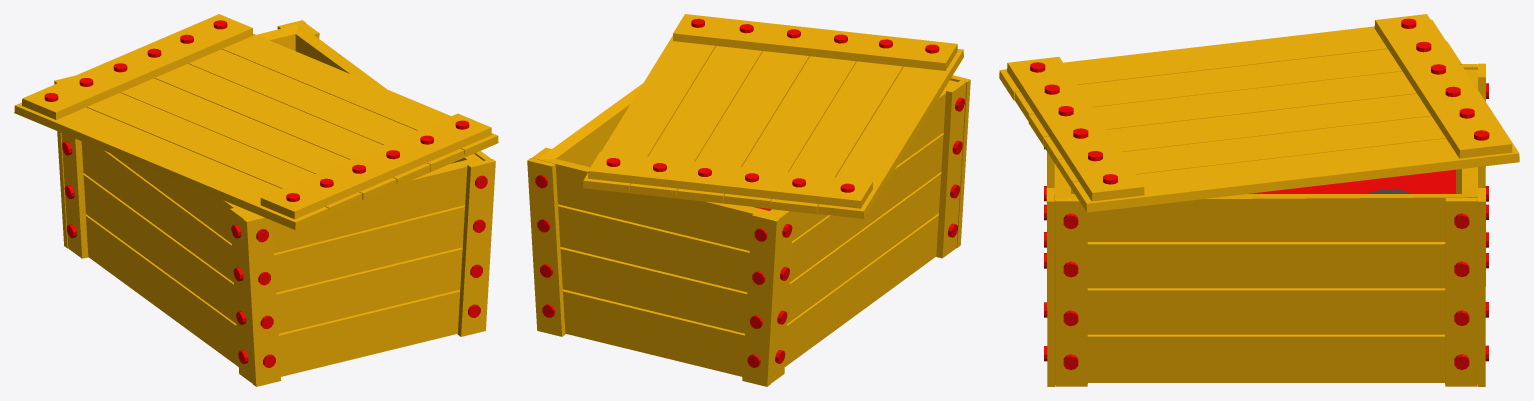
The model's file is MoneyChest.fbx.
3 views of the same model, side by side, from view 1: azimuth 30°, elevation 25°; view 2: azimuth 150°, elevation 25°; view 3: azimuth 270°, elevation 25° (orthographic). The views are drawn at different scales.
Visible parts, largest first — view 1: Body, pCube26 (×2), pCube19 (×3), pCube25, pCube23, pCube21, pCube27, pCube22, pCube20, pCube18 (×2); view 2: Body, pCube26 (×2), pCube19 (×3), pCube25, pCube27, pCube23, pCube21, pCube20, pCube22, pCube18 (×2); view 3: Body, pCube26 (×2), pCube23, pCube18 (×2), pCube25, pCube20, pCube22, pCube21, pCube27, pCube19 (×3).
Part boxes in pixels (x1=…): Body: x1=81, y1=24, x2=483, y2=376; pCube26 (×2): x1=22, y1=14, x2=491, y2=219; pCube19 (×3): x1=54, y1=75, x2=495, y2=386; pCube25: x1=14, y1=102, x2=328, y2=229; pCube23: x1=222, y1=33, x2=498, y2=157; pCube21: x1=154, y1=64, x2=430, y2=186; pCube27: x1=86, y1=92, x2=362, y2=214; pCube22: x1=188, y1=49, x2=464, y2=171; pCube20: x1=120, y1=78, x2=396, y2=200; pCube18 (×2): x1=61, y1=133, x2=252, y2=383; Body: x1=538, y1=80, x2=957, y2=376; pCube26 (×2): x1=588, y1=14, x2=957, y2=208; pCube19 (×3): x1=527, y1=75, x2=970, y2=386; pCube25: x1=817, y1=49, x2=963, y2=218; pCube27: x1=770, y1=61, x2=903, y2=214; pCube23: x1=583, y1=35, x2=715, y2=193; pCube21: x1=676, y1=51, x2=809, y2=203; pCube20: x1=723, y1=56, x2=856, y2=208; pCube22: x1=630, y1=46, x2=762, y2=198; pCube18 (×2): x1=770, y1=80, x2=966, y2=383; Body: x1=1054, y1=69, x2=1477, y2=382; pCube26 (×2): x1=1007, y1=14, x2=1512, y2=201; pCube23: x1=1072, y1=131, x2=1519, y2=212; pCube18 (×2): x1=1054, y1=198, x2=1477, y2=386; pCube25: x1=999, y1=19, x2=1446, y2=100; pCube20: x1=1028, y1=64, x2=1475, y2=145; pCube22: x1=1057, y1=109, x2=1504, y2=189; pCube21: x1=1043, y1=87, x2=1489, y2=167; pCube27: x1=1015, y1=42, x2=1461, y2=121; pCube19 (×3): x1=1046, y1=63, x2=1485, y2=386.
Size of the model in its own units: 70.74 by 37.87 by 84.24.
